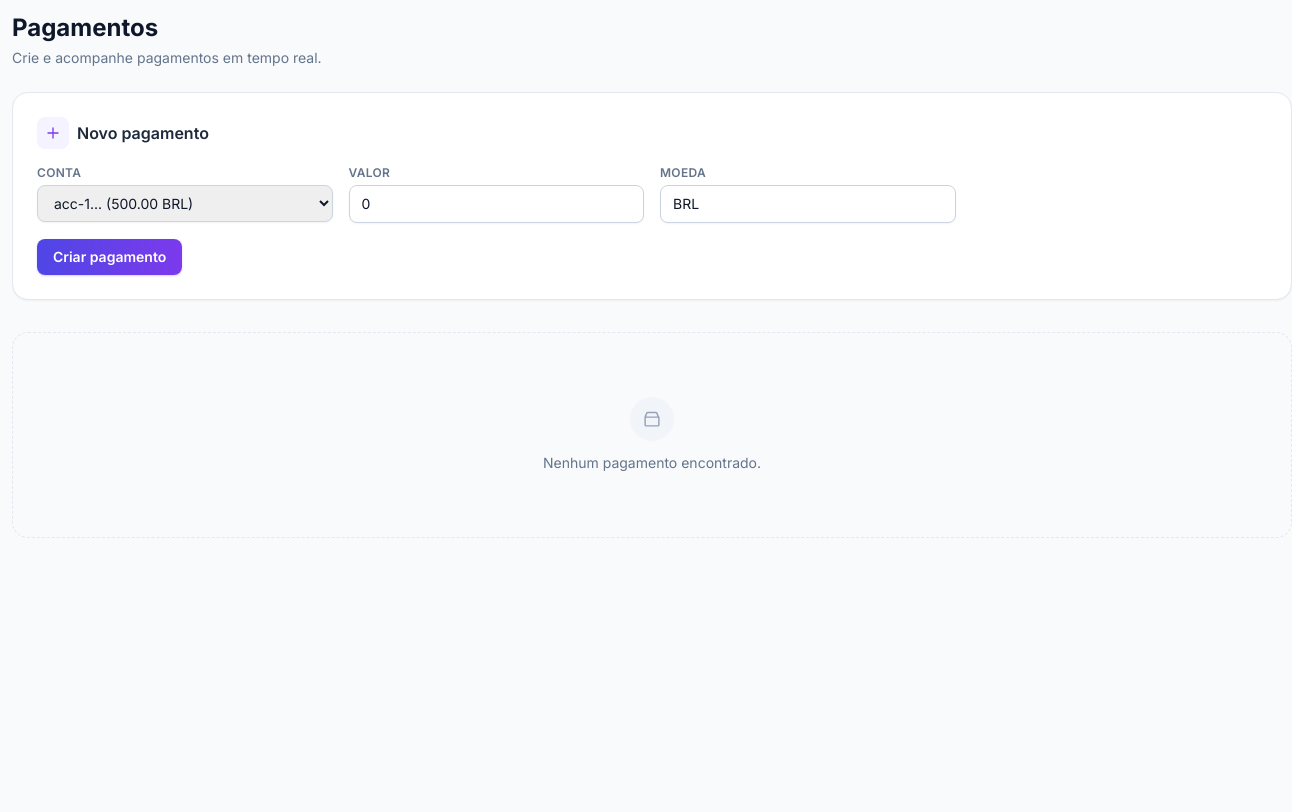
Test: PaymentsView › shows an error message when creating a payment fails
Step 1. Replace the text in the number field with "100" → (496, 204), box x1=348 y1=185 x2=644 y2=223
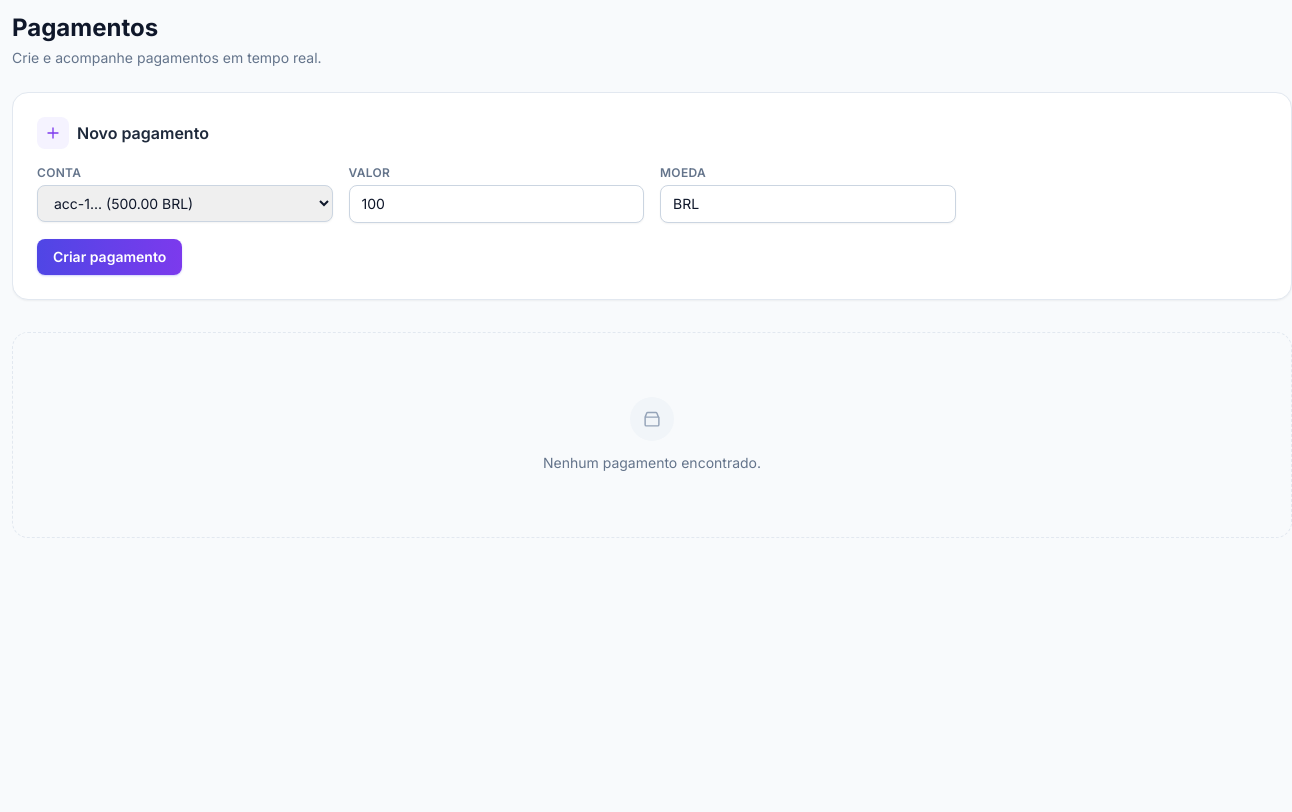
Step 2. Submit the form, box x1=12 y1=92 x2=1291 y2=300
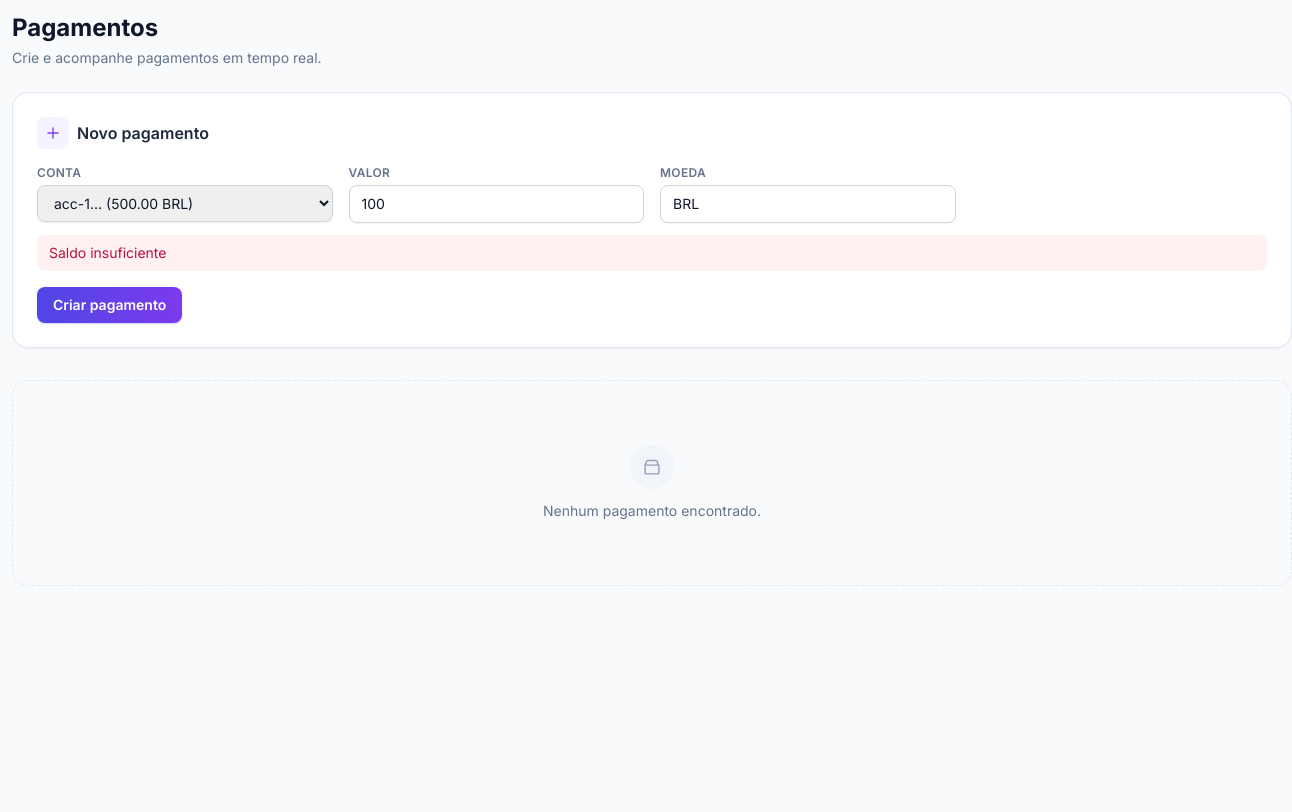
Now the text "Saldo insuficiente" is shown, box x1=37 y1=235 x2=1267 y2=271
